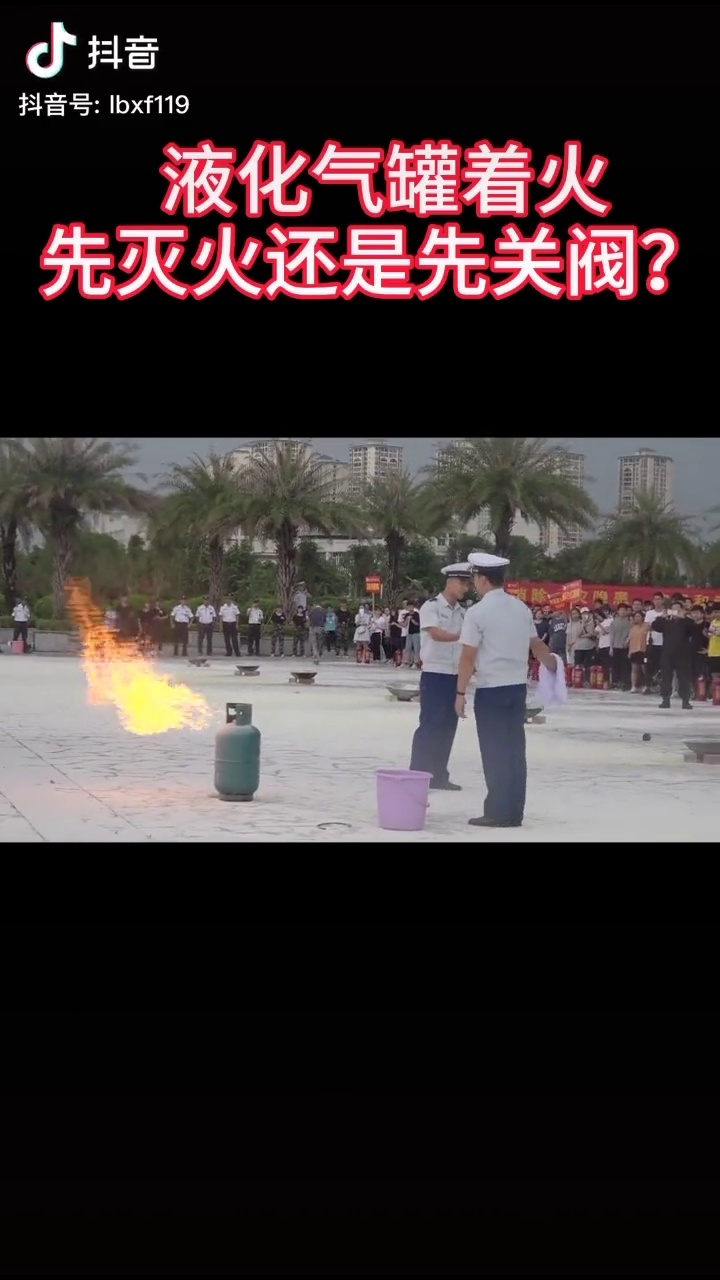fire: (60, 596, 204, 738)
